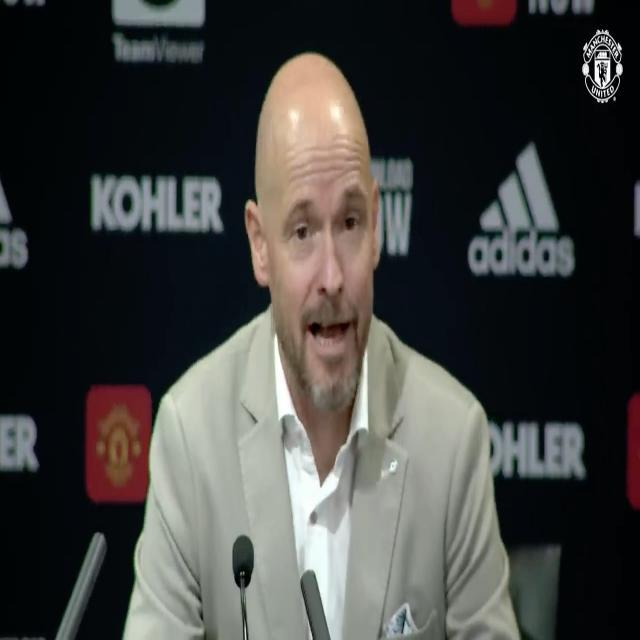Adidas: (470, 142, 574, 276)
Kohler: (92, 176, 222, 232)
TeamViewer: (113, 0, 206, 64)
